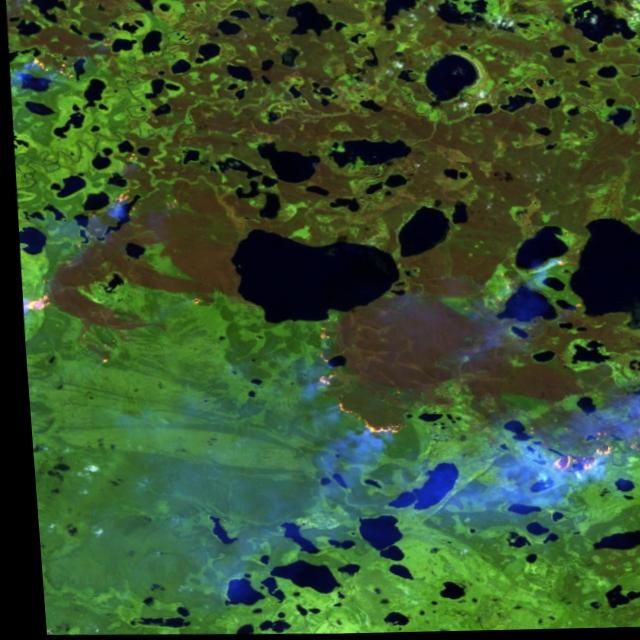fire: (285, 321, 414, 449), (533, 377, 640, 487), (467, 251, 579, 305), (11, 44, 81, 90), (90, 178, 153, 224), (16, 271, 68, 324)
